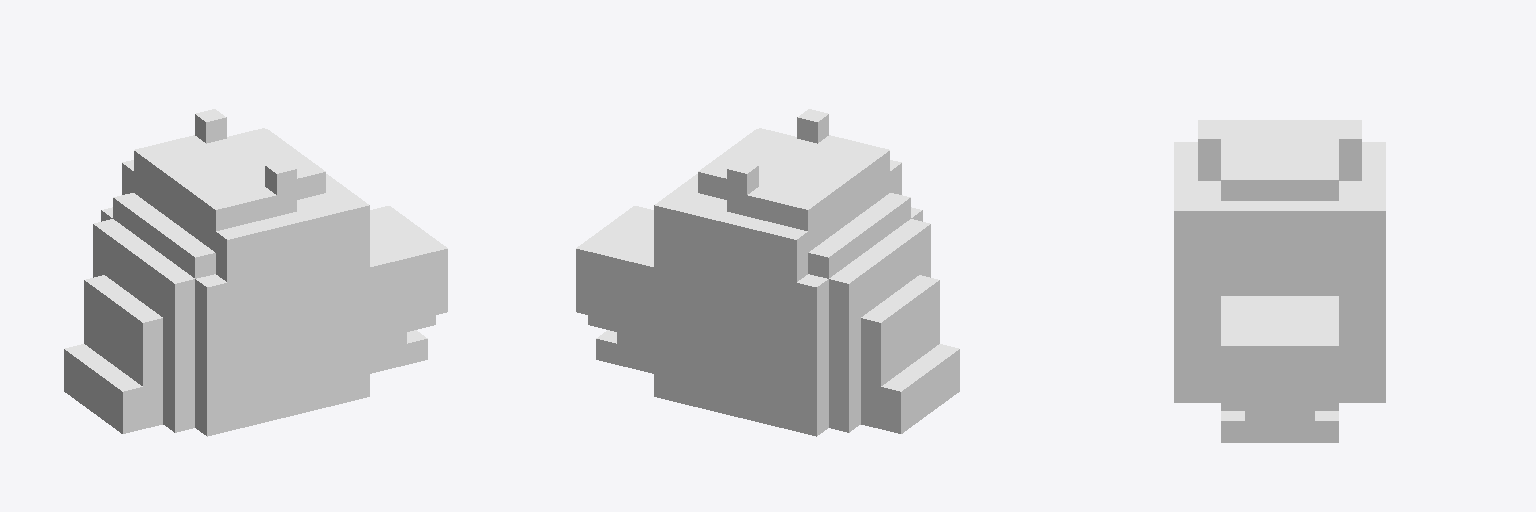
Rendered from Animals-24.obj.
The picture shows the model from 3 angles: view 1: azimuth 30°, elevation 25°; view 2: azimuth 150°, elevation 25°; view 3: azimuth 270°, elevation 25°; orthographic projection.
Visible parts, largest first — view 1: object 1; view 2: object 1; view 3: object 1.
Part boxes in pixels (bbox=[...]): object 1: bbox=[64, 109, 447, 436]; object 1: bbox=[576, 109, 959, 436]; object 1: bbox=[1174, 120, 1385, 442].
Size of the model in its own units: 1.6 by 1.1 by 0.9.